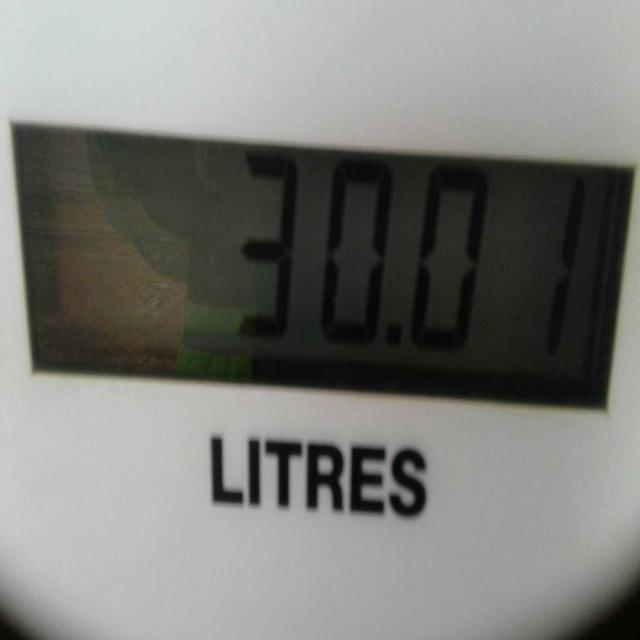.: (384, 318, 408, 360)
0: (416, 163, 492, 349), (325, 139, 391, 353)
3: (230, 132, 301, 359)
